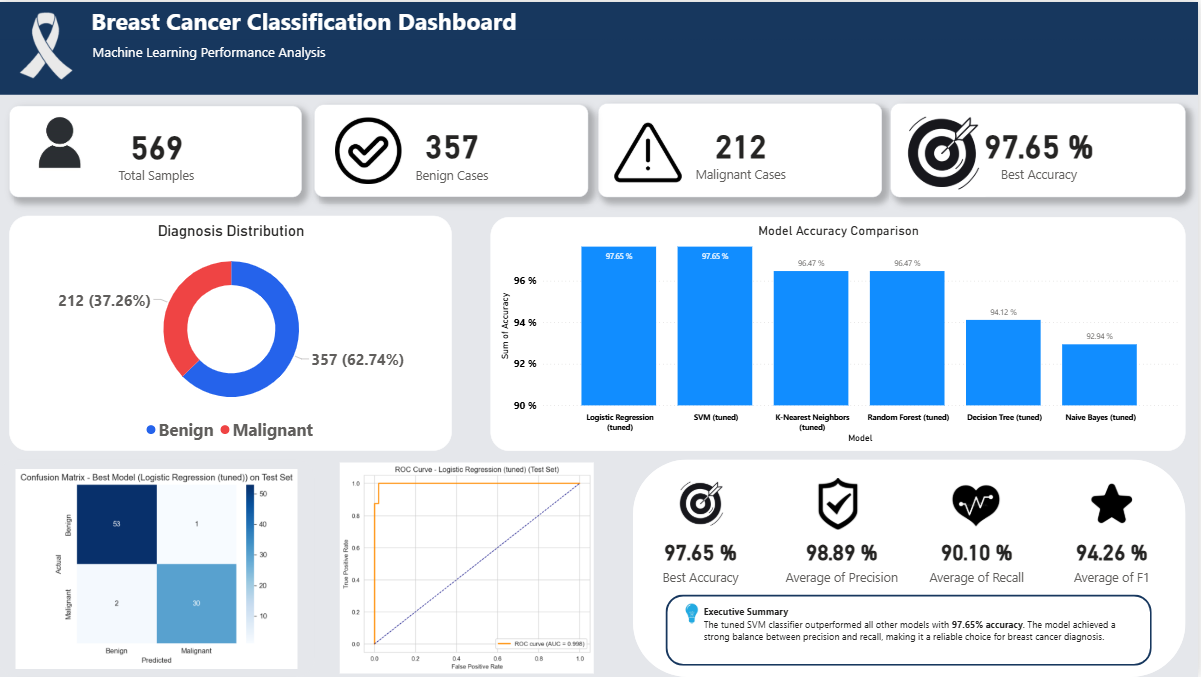

The page's visual inventory and layout, read from the dashboard file:
{"tool":"powerbi","page":{"name":"Page 1","canvas":[1920,1080],"ordinal":0},"visuals":[{"type":"shape","box":[0,0,1920,90],"z":0},{"type":"textbox","box":[0,0,1920,148],"z":1000},{"type":"textbox","box":[0,60,1920,88],"z":2000},{"type":"card","fields":{"Values":["breast_cancer_dashboard.Total Samples"]},"box":[18,166,468,146],"z":3000},{"type":"card","fields":{"Values":["breast_cancer_dashboard.Malignant Cases"]},"box":[960,162,454,150],"z":4000},{"type":"card","fields":{"Values":["breast_cancer_dashboard.Benign Cases"]},"box":[506,164,438,148],"z":5000},{"type":"card","fields":{"Values":["model_results.Best Accuracy"]},"box":[1428,162,472,150],"z":6000},{"type":"image","box":[0,166,198,118],"z":7000},{"type":"image","box":[396,180,392,116],"z":8000},{"type":"image","box":[862,182,356,118],"z":9000},{"type":"image","box":[1370,168,280,148],"z":10000},{"type":"donutChart","title":"Diagnosis Distribution","fields":{"Category":["breast_cancer_dashboard.diagnosis"],"Y":["CountNonNull(breast_cancer_dashboard.diagnosis)"]},"box":[18,342,708,376],"z":11000},{"type":"clusteredColumnChart","title":"Model Accuracy Comparison","fields":{"Category":["model_results.Model"],"Y":["Sum(model_results.Accuracy)"]},"box":[788,344,1112,374],"z":12000},{"type":"image","box":[0,732,506,348],"z":13000},{"type":"image","box":[506.2,732.5,488.8,347.5],"z":14000},{"type":"shape","box":[1016,732,884,348],"z":15000},{"type":"card","fields":{"Values":["model_results.Best Accuracy"]},"box":[1016,836,216,112],"z":16000},{"type":"card","fields":{"Values":["Avg(model_results.Precision)"]},"box":[1242,836,216,112],"z":17000},{"type":"card","fields":{"Values":["Avg(model_results.Recall)"]},"box":[1458,836,216,112],"z":18000},{"type":"card","fields":{"Values":["Avg(model_results.F1)"]},"box":[1674,836,216,112],"z":19000},{"type":"image","box":[1034,756,180,94],"z":20000},{"type":"image","box":[1492.4,748,146.4,110.7],"z":21000},{"type":"image","box":[1298,756,92,94],"z":22000},{"type":"image","box":[1728,754,108,96],"z":23000},{"type":"shape","box":[1068,948,778,114],"z":24000},{"type":"image","box":[1084,948,52,60],"z":25000},{"type":"image","box":[0,0,152,148],"z":26000},{"type":"textbox","box":[1124,960,712,86],"z":27000}]}

Visuals, with their boxes in screenshot pixels (x1, y1, x2, y2), scaled from the page's 1920x1080 canvas onto the 1201x677 screenshot:
shape: (0, 0, 1200, 56)
textbox: (0, 0, 1200, 93)
textbox: (0, 38, 1200, 93)
card - breast_cancer_dashboard.Total Samples: (11, 104, 304, 196)
card - breast_cancer_dashboard.Malignant Cases: (600, 102, 884, 196)
card - breast_cancer_dashboard.Benign Cases: (317, 103, 590, 196)
card - model_results.Best Accuracy: (893, 102, 1188, 196)
image: (0, 104, 124, 178)
image: (248, 113, 493, 186)
image: (539, 114, 762, 188)
image: (857, 105, 1032, 198)
"Diagnosis Distribution" donutChart: (11, 214, 454, 450)
"Model Accuracy Comparison" clusteredColumnChart: (493, 216, 1188, 450)
image: (0, 459, 317, 676)
image: (317, 459, 622, 676)
shape: (636, 459, 1188, 676)
card - model_results.Best Accuracy: (636, 524, 771, 594)
card - Avg(model_results.Precision): (777, 524, 912, 594)
card - Avg(model_results.Recall): (912, 524, 1047, 594)
card - Avg(model_results.F1): (1047, 524, 1182, 594)
image: (647, 474, 759, 533)
image: (934, 469, 1025, 538)
image: (812, 474, 869, 533)
image: (1081, 473, 1148, 533)
shape: (668, 594, 1155, 666)
image: (678, 594, 711, 632)
image: (0, 0, 95, 93)
textbox: (703, 602, 1148, 656)
